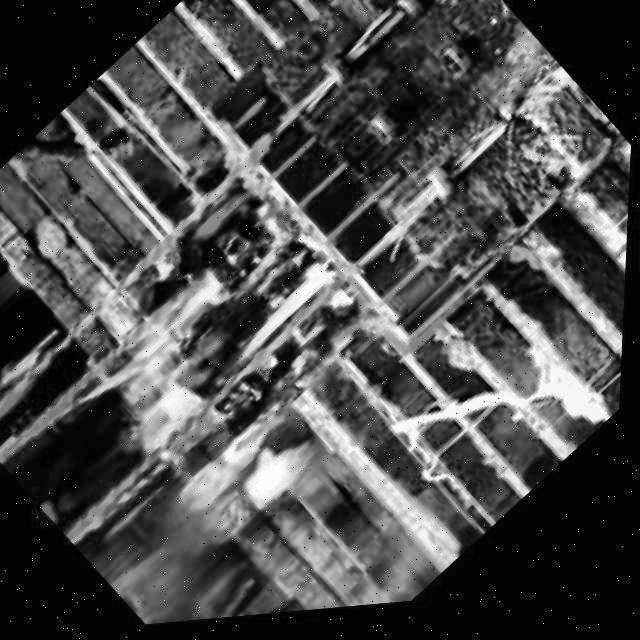Fire: (60, 194, 349, 477)
